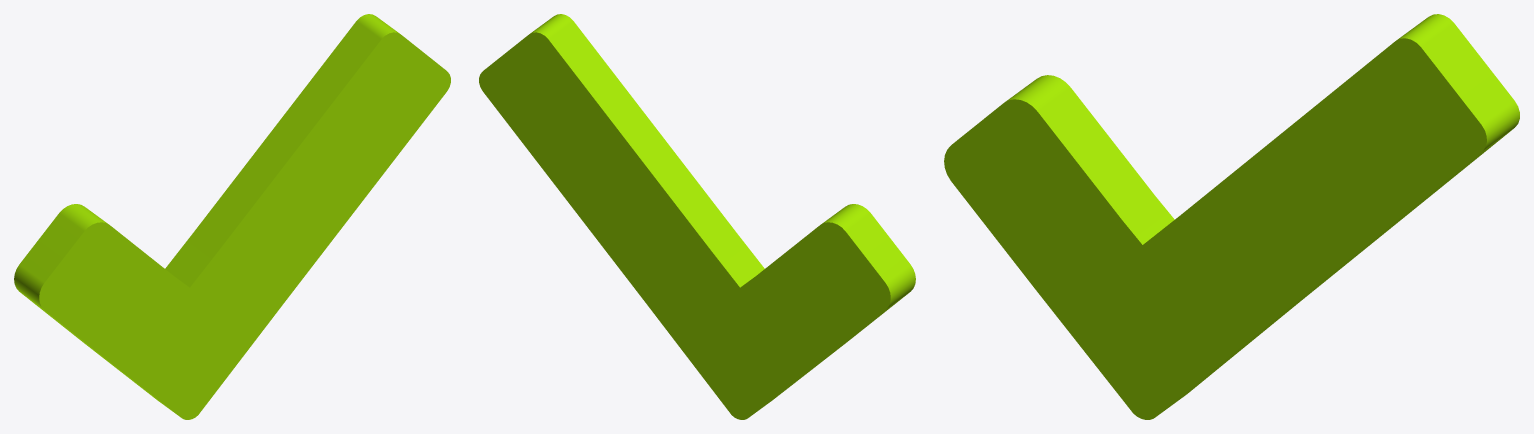
The picture shows the model from 3 angles, left to right: view 1: azimuth 30°, elevation 25°; view 2: azimuth 150°, elevation 25°; view 3: azimuth 330°, elevation 25°; orthographic projection. The views are drawn at different scales.
Visible parts, largest first — view 1: Si; view 2: Si; view 3: Si.
Part boxes in pixels (box(x1,y1,x2,y2)): Si: box(14, 14, 450, 419); Si: box(479, 14, 915, 419); Si: box(944, 14, 1519, 419).
Size of the model in its own units: 12.69 by 9.94 by 1.34.
